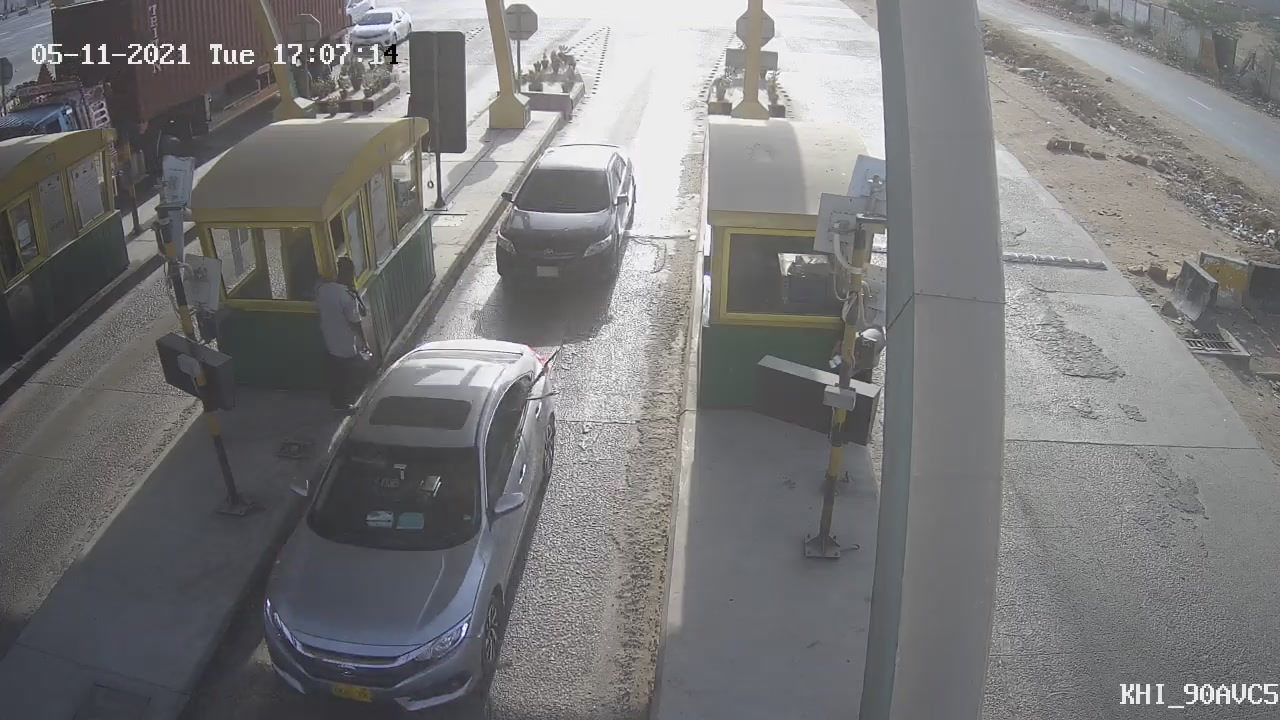F1: (477, 129, 656, 309)
